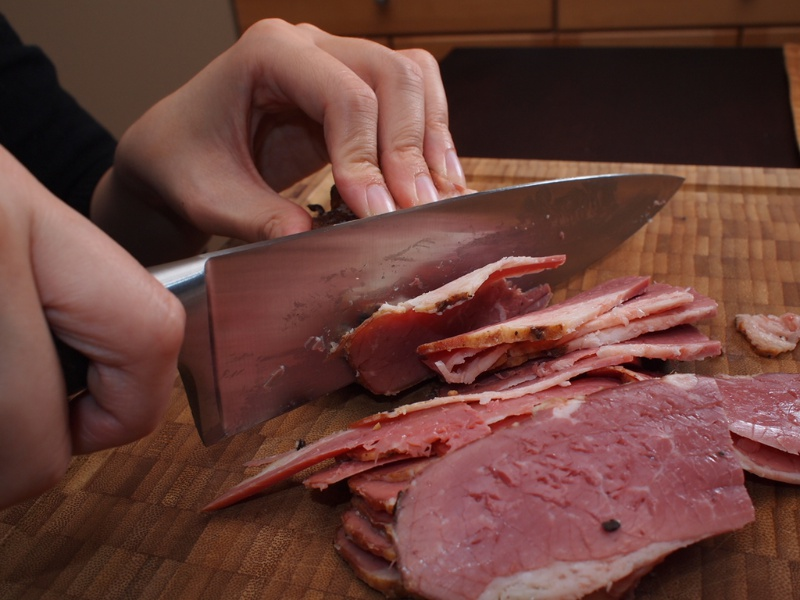knife: (3, 167, 689, 454)
